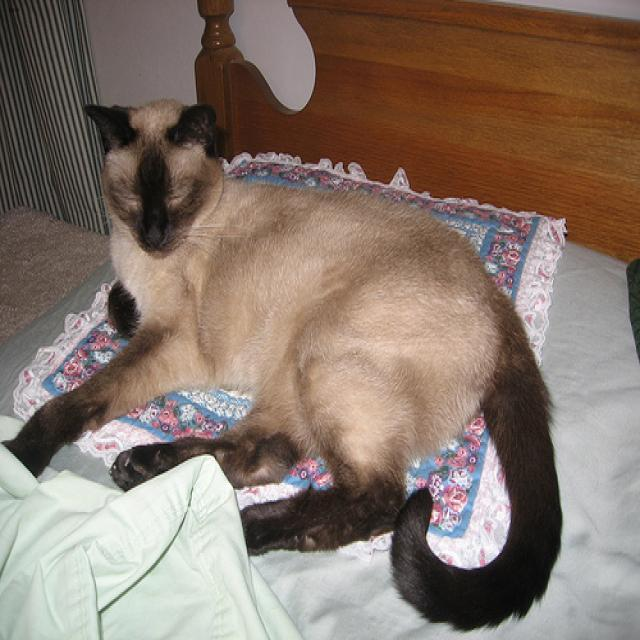Siamese: (81, 93, 230, 265)
